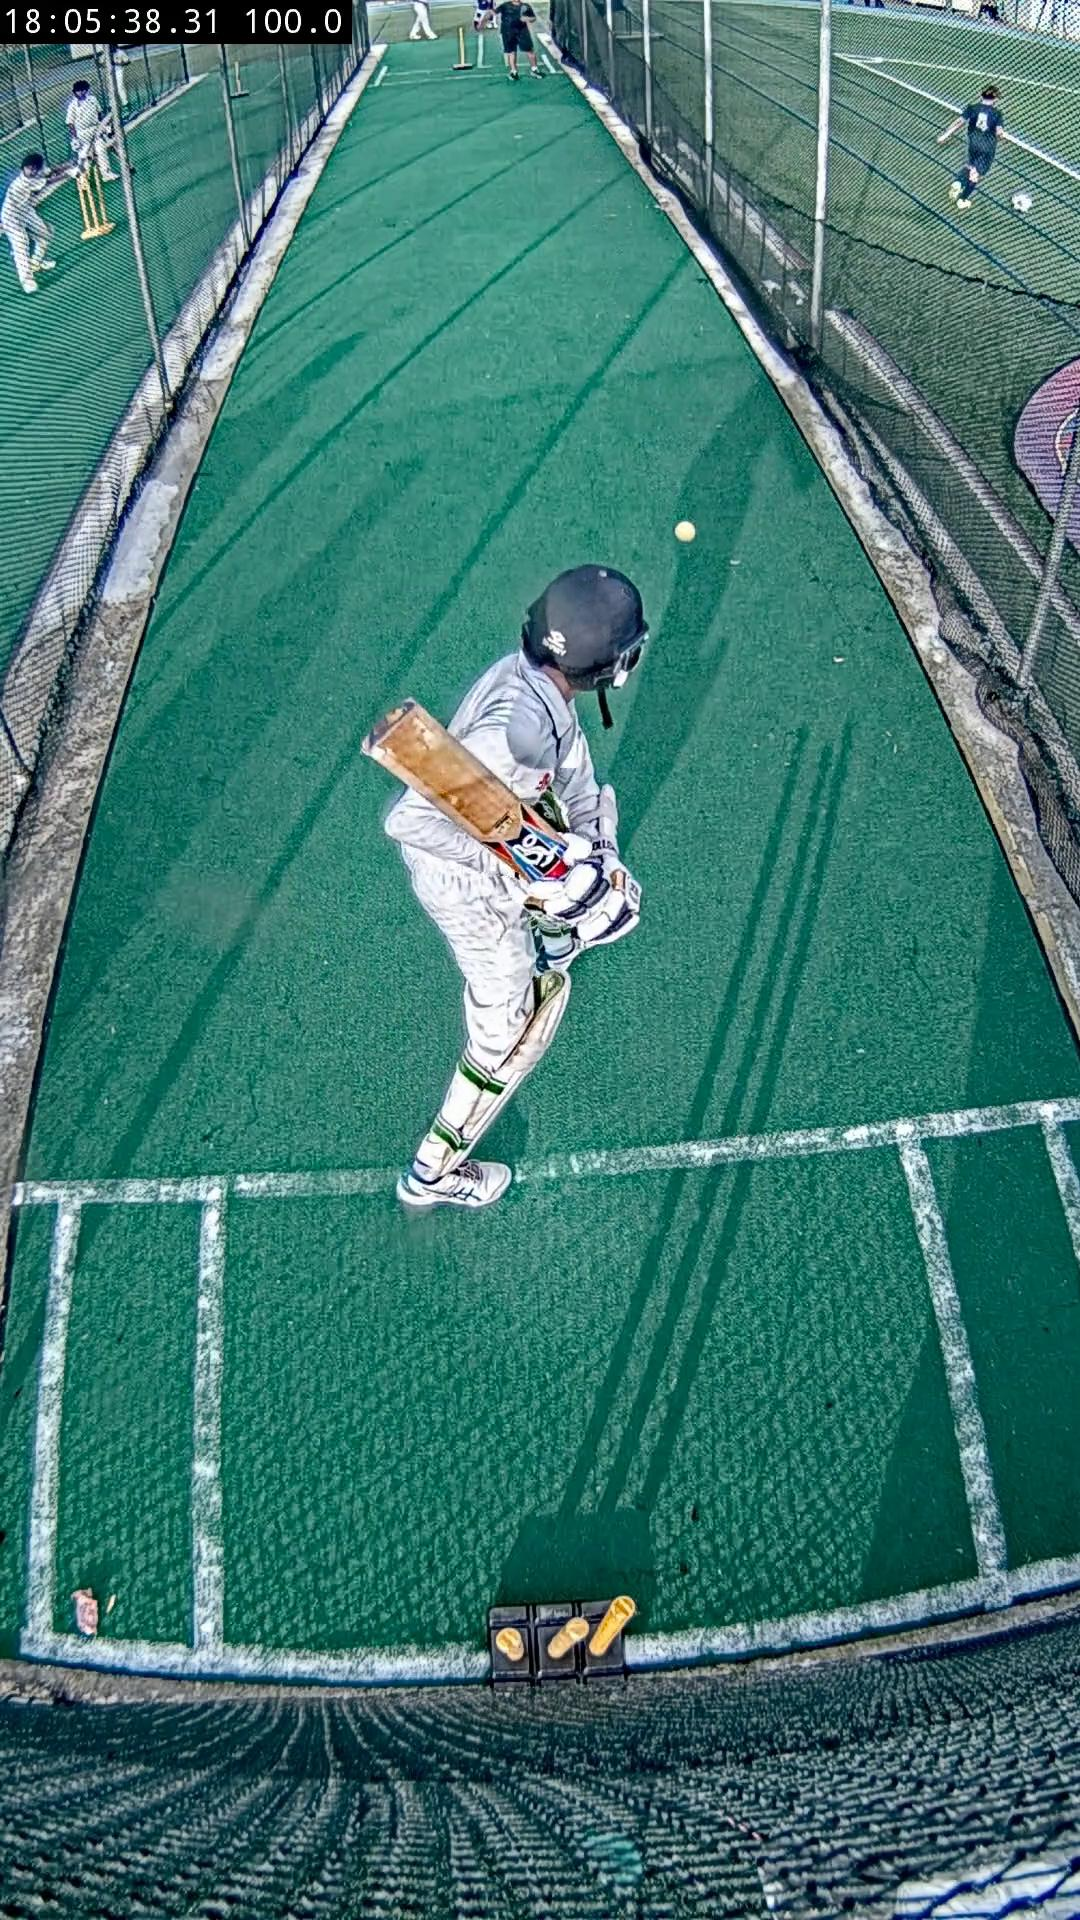ball: (675, 521, 698, 541)
bat: (360, 698, 570, 881)
gloves: (525, 855, 641, 947)
helmet: (521, 563, 649, 721)
pads: (462, 968, 570, 1143)
stumps: (488, 1597, 637, 1684)
